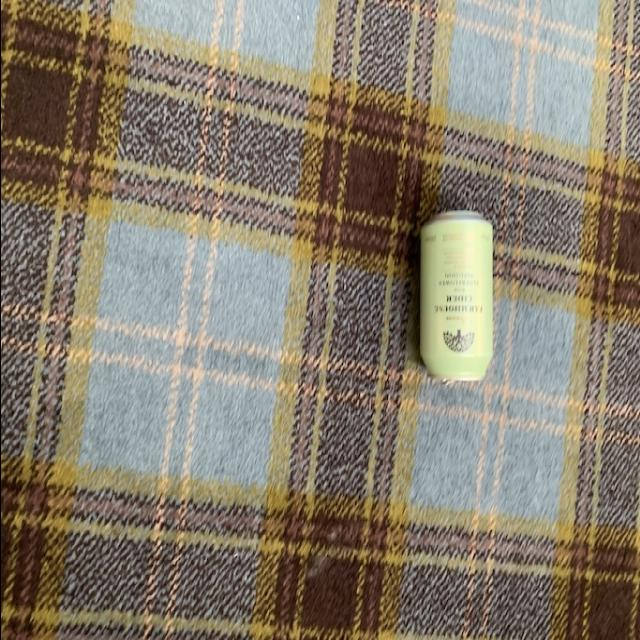Aluminum Can: (409, 206, 492, 398)
